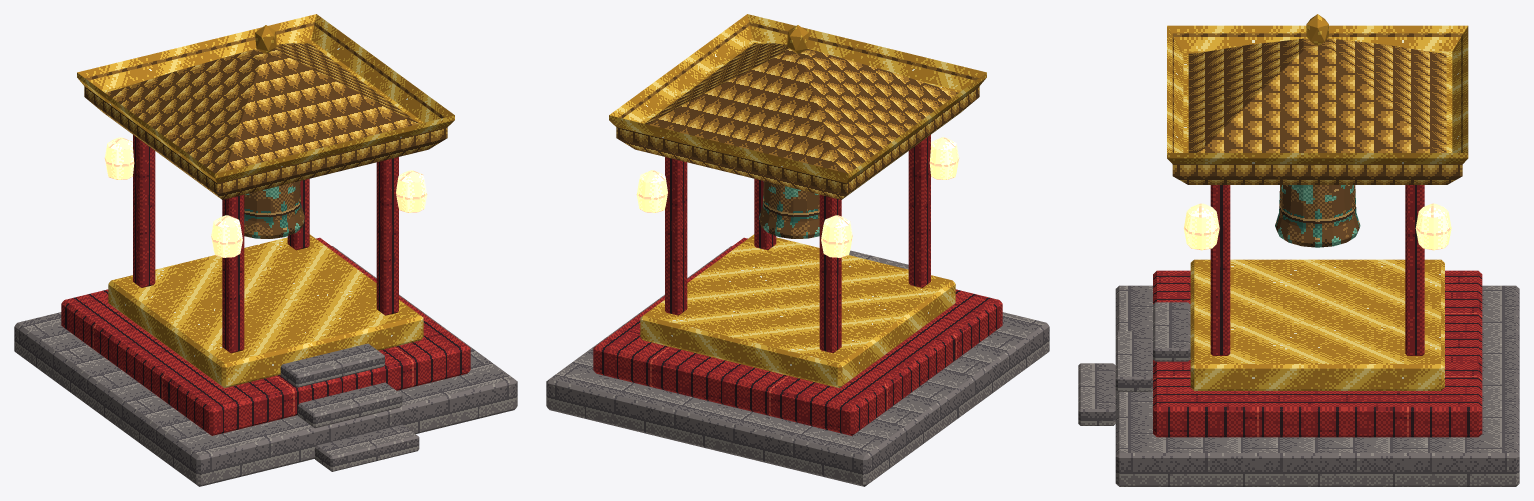
The model's file is bell_altar.glb.
3 views of the same model, side by side, from view 1: azimuth 30°, elevation 25°; view 2: azimuth 150°, elevation 25°; view 3: azimuth 270°, elevation 25° (orthographic). The views are drawn at different scales.
Visible parts, largest first — view 1: Altar, Glow, Bell; view 2: Altar, Glow, Bell; view 3: Altar, Bell, Glow.
Part boxes in pixels (x1,y1,x2,y2): Altar: [14, 14, 517, 486]; Glow: [104, 137, 427, 257]; Bell: [244, 181, 304, 238]; Altar: [546, 14, 1049, 486]; Glow: [636, 137, 959, 257]; Bell: [759, 181, 819, 238]; Altar: [1078, 14, 1519, 486]; Bell: [1275, 185, 1360, 247]; Glow: [1184, 203, 1451, 250].
Bounding box in the file's own units: 5.4 × 5.74 × 5.9.
6 materials, 6 textured.
